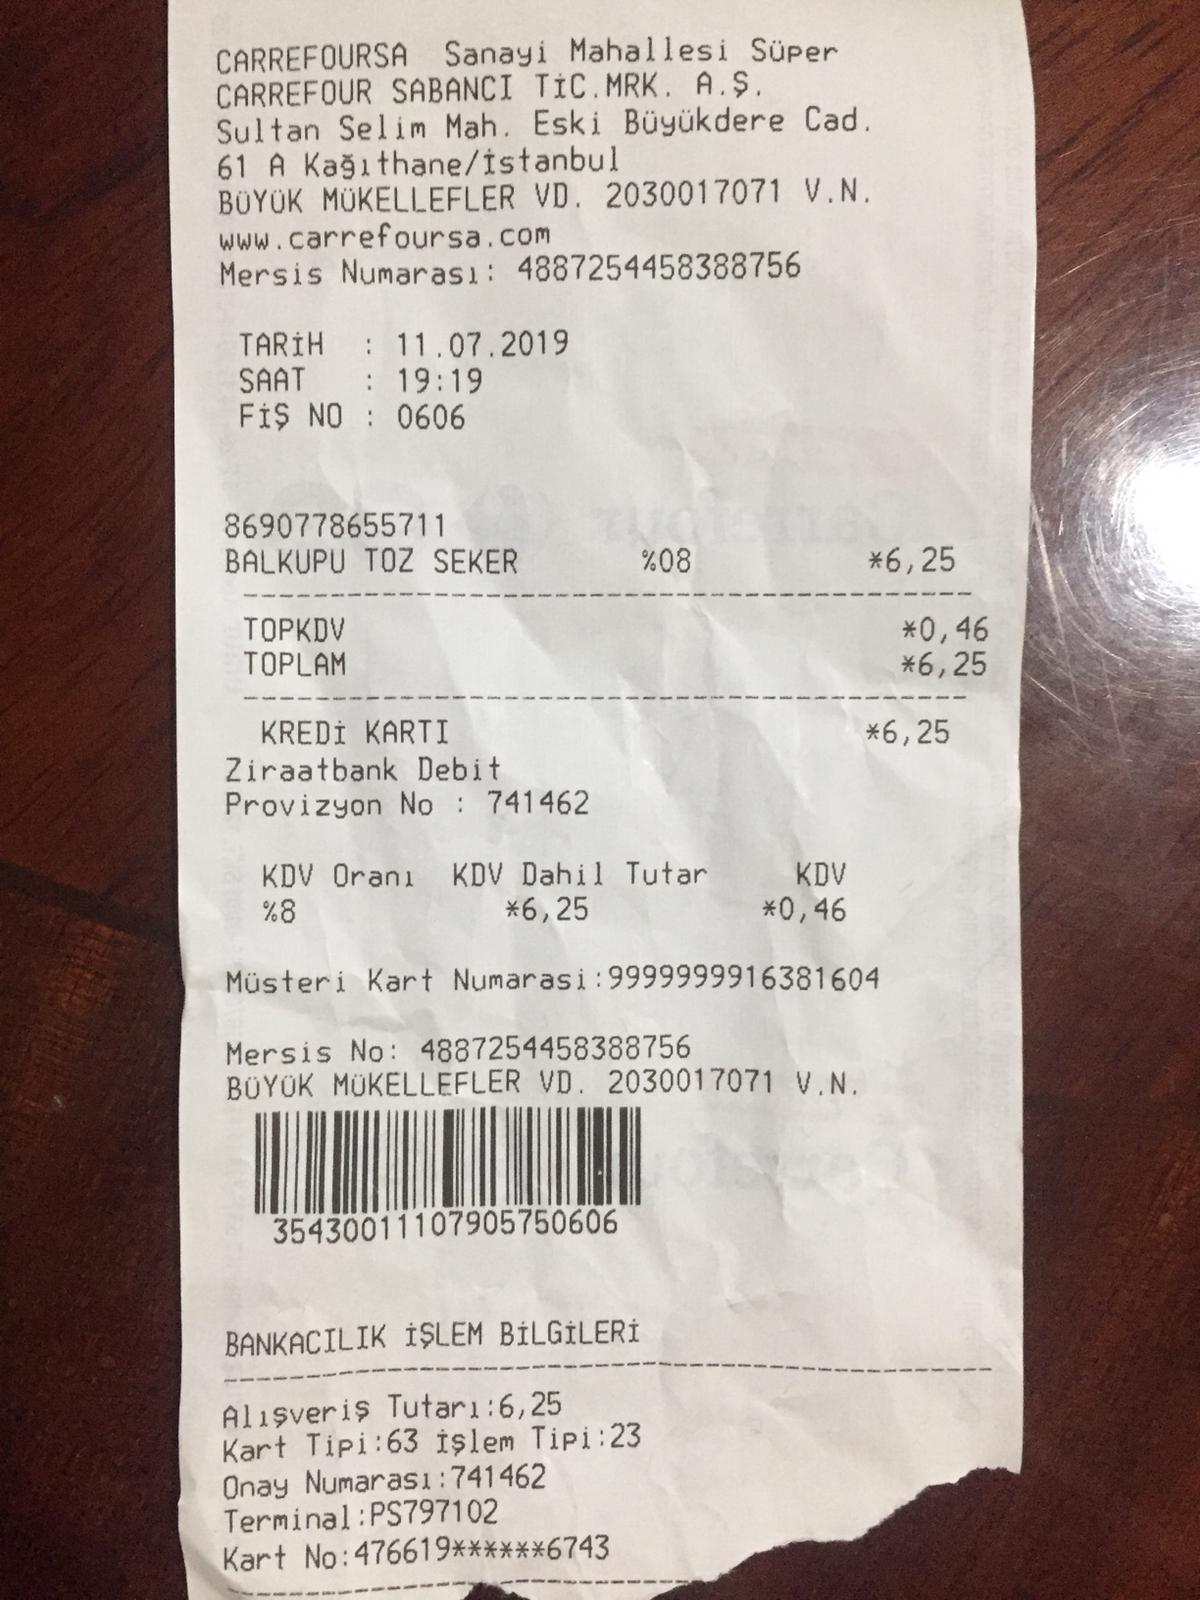total: (240, 645, 999, 696)
